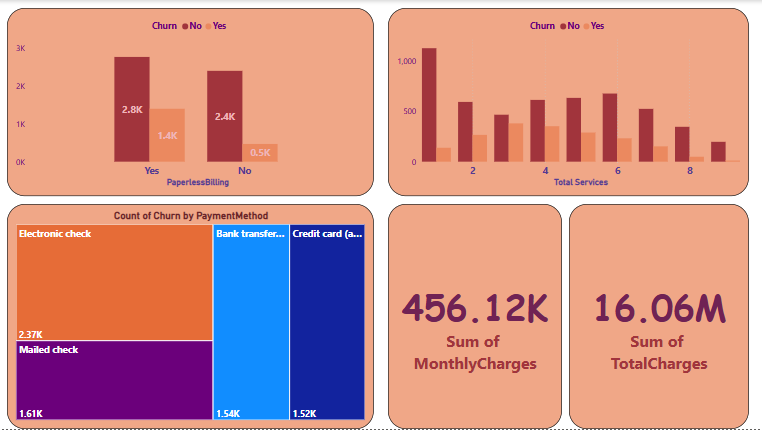

What the dashboard file says about the page in this screenshot:
{"tool":"powerbi","page":{"name":"Page 2","canvas":[1280,720],"ordinal":1},"visuals":[{"type":"clusteredColumnChart","fields":{"Y":["CountNonNull(WA_Fn-UseC_-Telco-Customer-Churn.Churn)"],"Series":["WA_Fn-UseC_-Telco-Customer-Churn.Churn"],"Category":["WA_Fn-UseC_-Telco-Customer-Churn.PaperlessBilling"]},"box":[11.8,13.4,616.5,315.8],"z":0},{"type":"treemap","fields":{"Details":["WA_Fn-UseC_-Telco-Customer-Churn.PaymentMethod"],"Values":["CountNonNull(WA_Fn-UseC_-Telco-Customer-Churn.Churn)"]},"box":[11.8,342.7,616.5,378],"z":1000},{"type":"clusteredColumnChart","fields":{"Category":["WA_Fn-UseC_-Telco-Customer-Churn.Total Services"],"Y":["CountNonNull(WA_Fn-UseC_-Telco-Customer-Churn.Churn)"],"Series":["WA_Fn-UseC_-Telco-Customer-Churn.Churn"]},"box":[651.8,13.4,606.4,315.8],"z":2000},{"type":"card","fields":{"Values":["Sum(WA_Fn-UseC_-Telco-Customer-Churn.TotalCharges)"]},"box":[955.8,342.7,302.4,378],"z":2001},{"type":"card","fields":{"Values":["Sum(WA_Fn-UseC_-Telco-Customer-Churn.MonthlyCharges)"]},"box":[651.8,342.7,292.3,378],"z":2002}]}

Visuals, with their boxes in screenshot pixels (x1, y1, x2, y2), scaled from the page's 1280x720 canvas onto the 762x430 screenshot:
clusteredColumnChart - CountNonNull(WA_Fn-UseC_-Telco-Customer-Churn.Churn) x WA_Fn-UseC_-Telco-Customer-Churn.Churn: 7:8:374:197
treemap - WA_Fn-UseC_-Telco-Customer-Churn.PaymentMethod x CountNonNull(WA_Fn-UseC_-Telco-Customer-Churn.Churn): 7:205:374:429
clusteredColumnChart - WA_Fn-UseC_-Telco-Customer-Churn.Total Services x CountNonNull(WA_Fn-UseC_-Telco-Customer-Churn.Churn): 388:8:749:197
card - Sum(WA_Fn-UseC_-Telco-Customer-Churn.TotalCharges): 569:205:749:429
card - Sum(WA_Fn-UseC_-Telco-Customer-Churn.MonthlyCharges): 388:205:562:429
